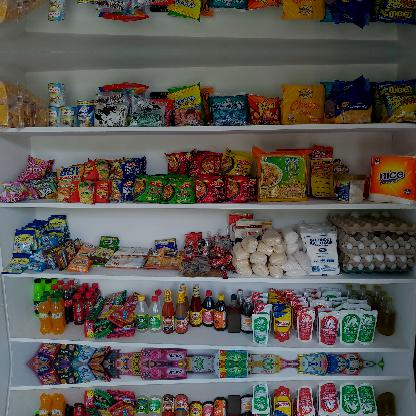Lady-s-Choice: (332, 173, 366, 203)
